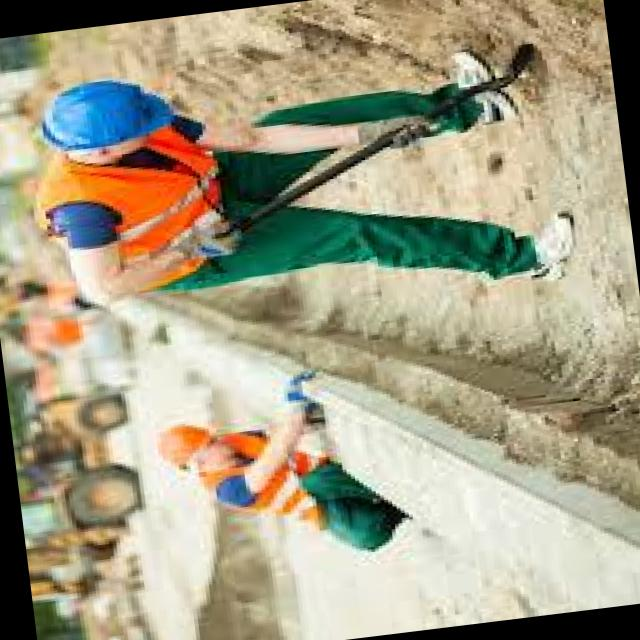gloved: (160, 205, 252, 271), (353, 112, 439, 154), (277, 368, 320, 412)
